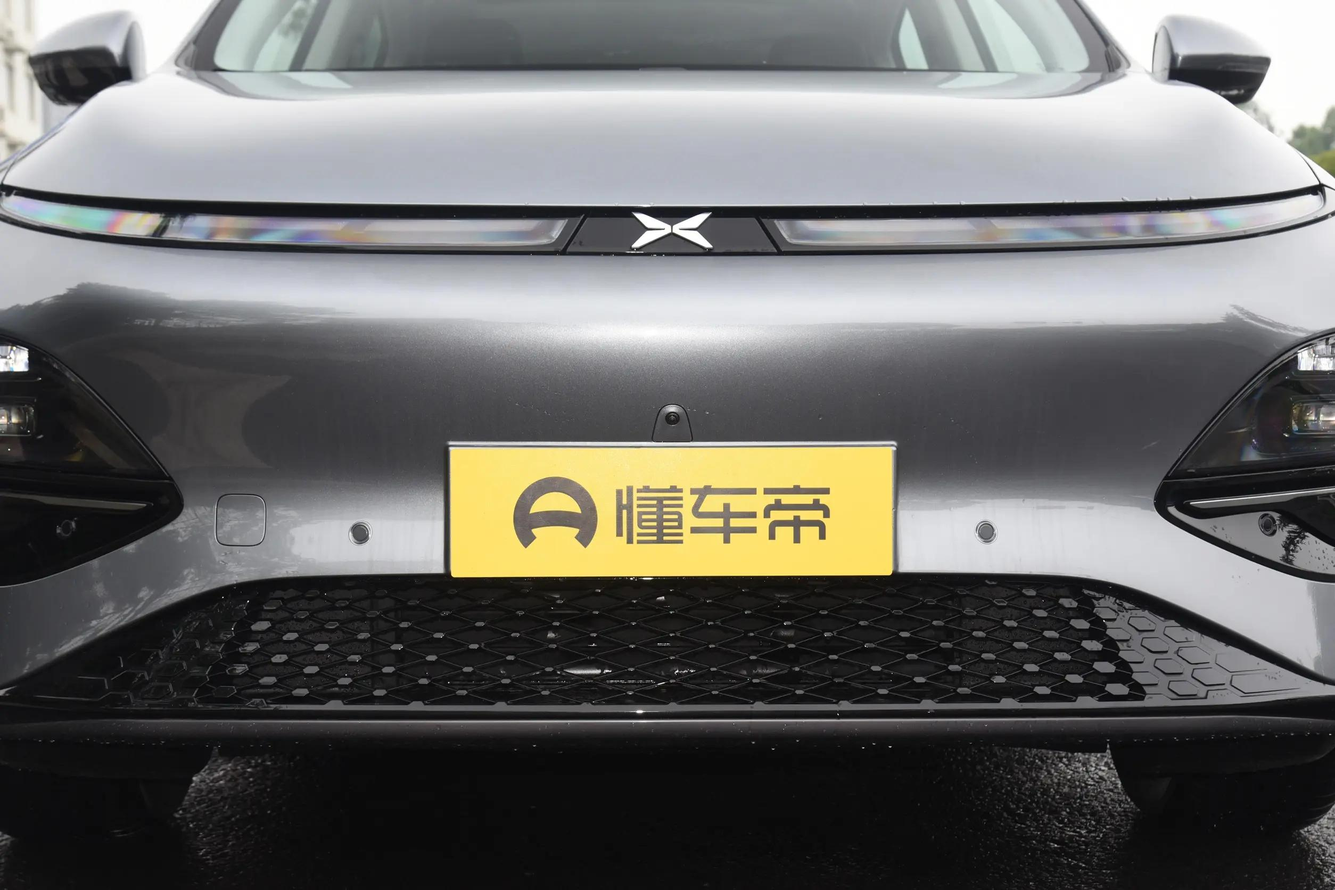XPeng Motors: (629, 211, 714, 249)
